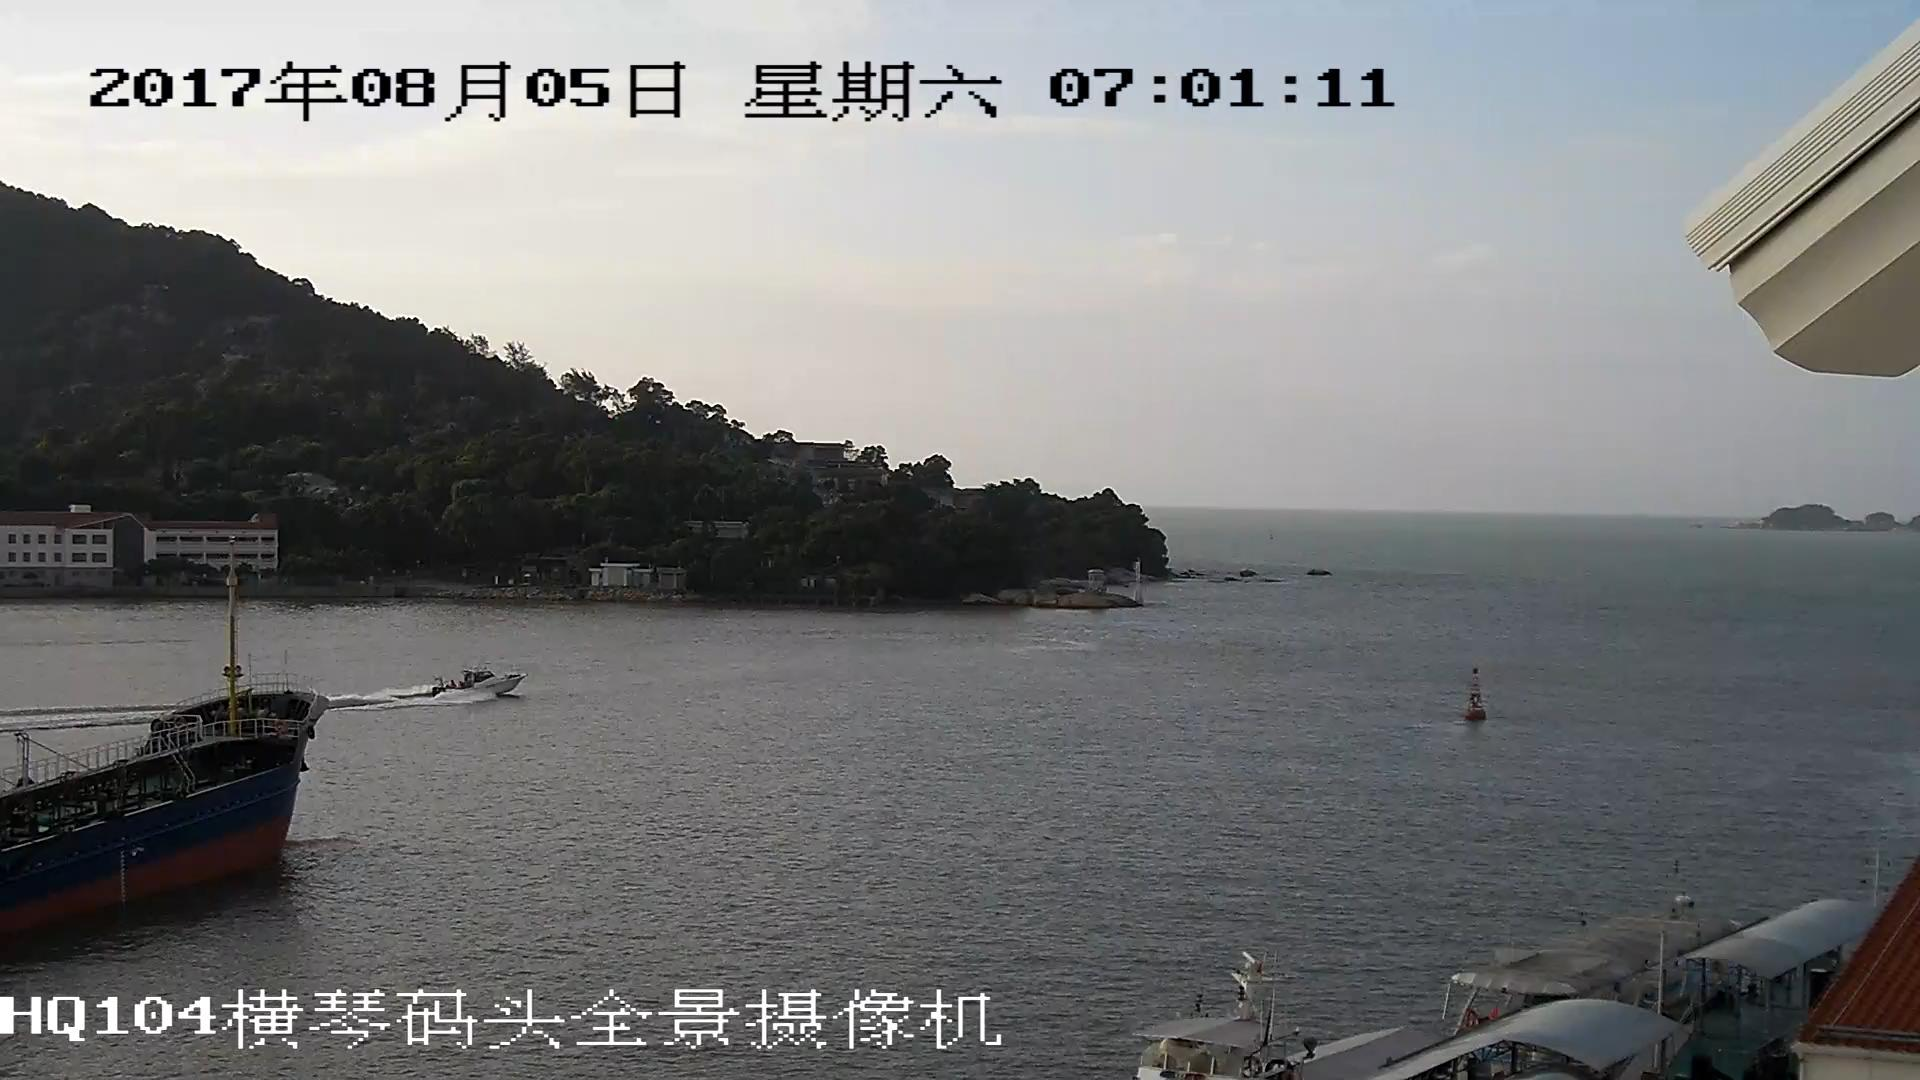Ship: (3, 545, 314, 969)
